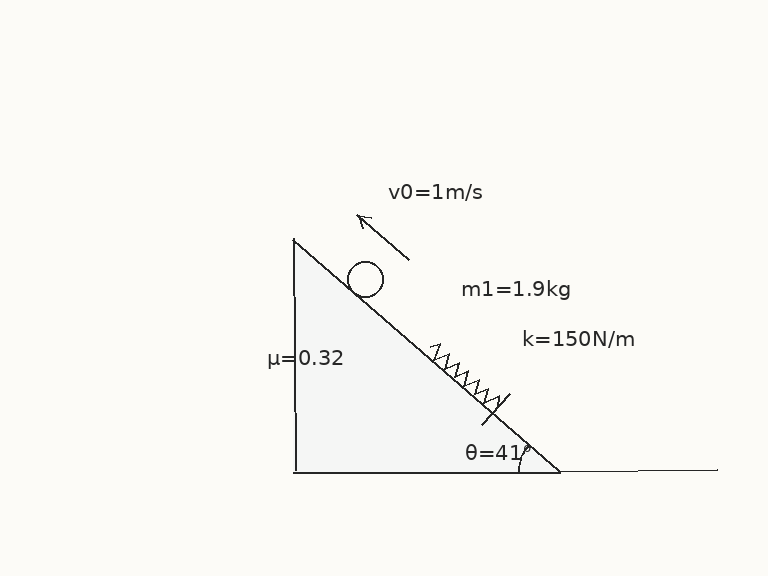ball: (345, 259, 385, 299)
ramp: (291, 238, 561, 473)
spring: (427, 343, 500, 408)
